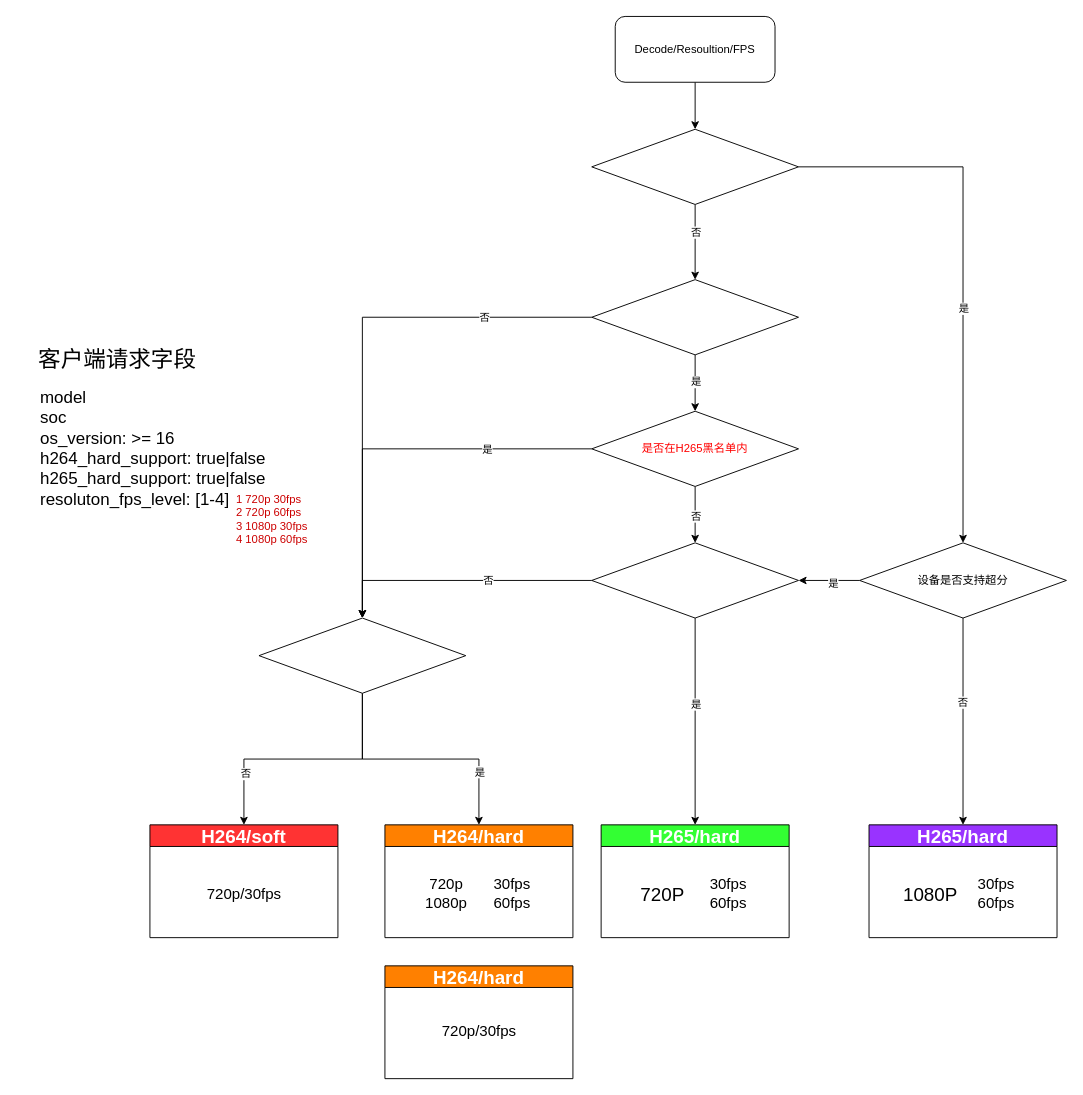
Image size: 1083x1095. Some labels were removed from this diagram. The shapes that lost their labels are listed below. From the top down, each one's centre as x and y in pixels, then its label:
the point at 695,166: >= Android 10 (29)
the point at 695,317: > =Android 8 (26)
the point at 695,580: 设备是否支持H265硬解 h265_hard_support
the point at 362,655: 设备是否支持H264硬解 h265_hard_support
